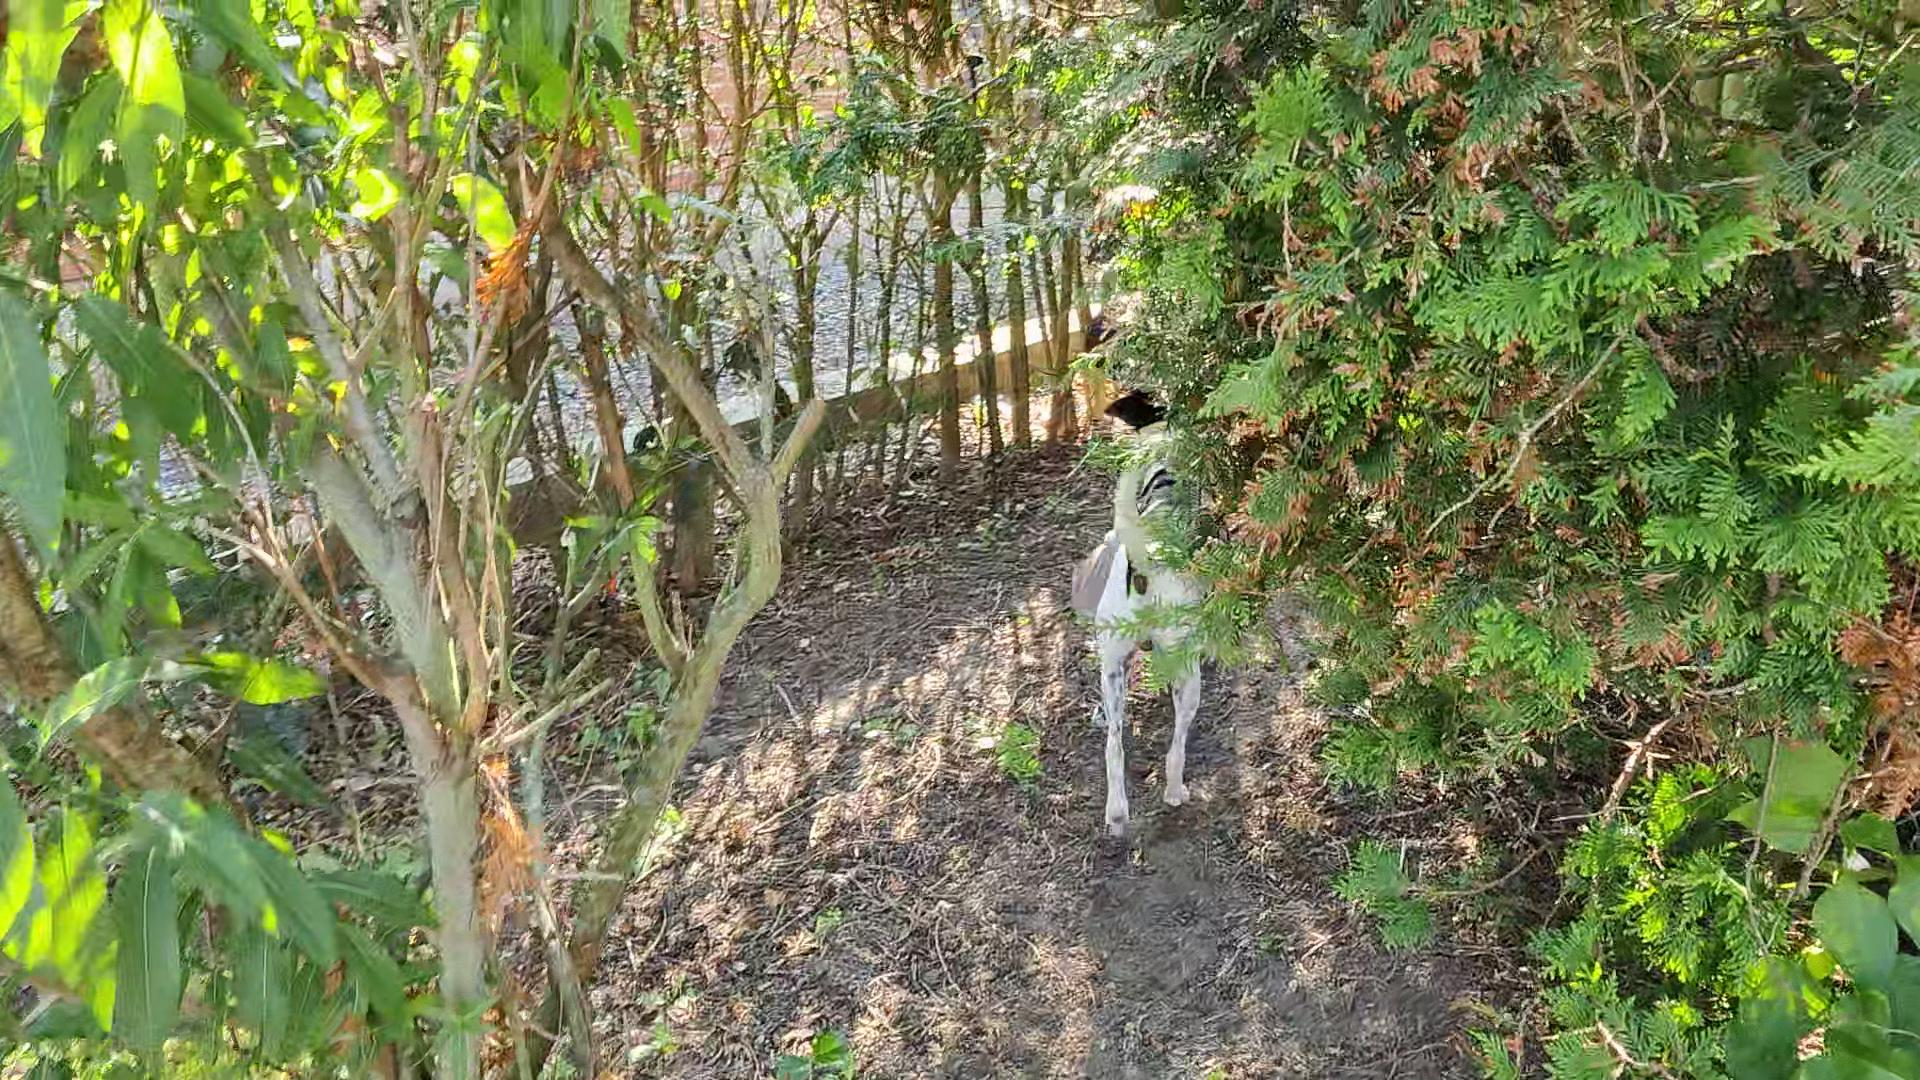Dog: (1077, 372, 1221, 837)
